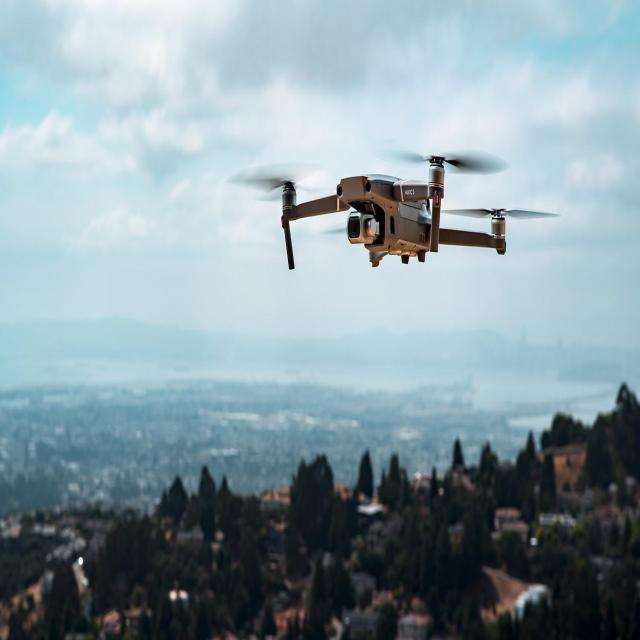drone: (222, 132, 544, 311)
